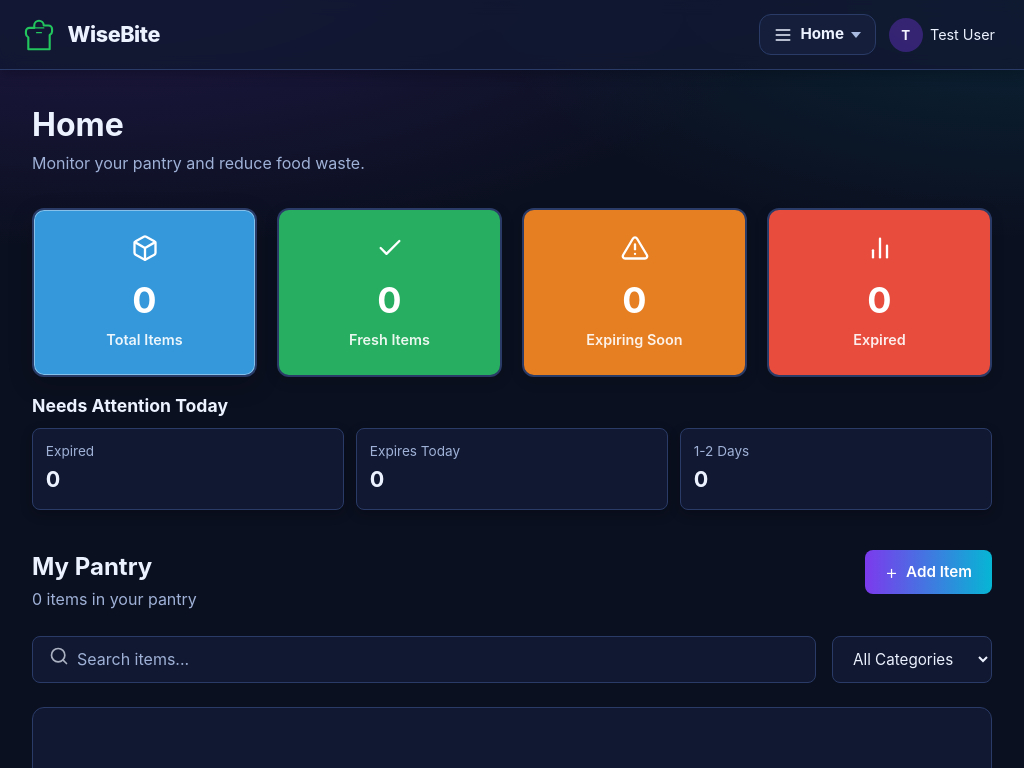
shows profile menu with logout action when authenticated
Expected: the text "log out" is not shown
Click the button "T Test User".
click(944, 34)  # box [884,12,1004,56]
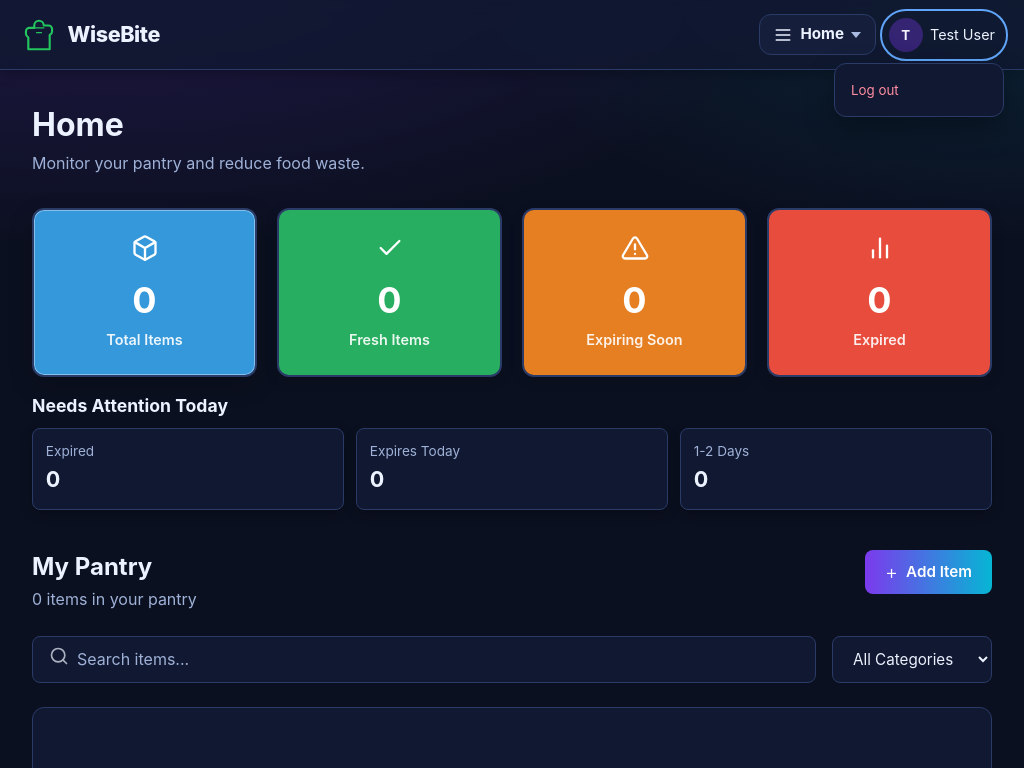
Expected: the button "Log out" is shown, [839,68,999,112]
